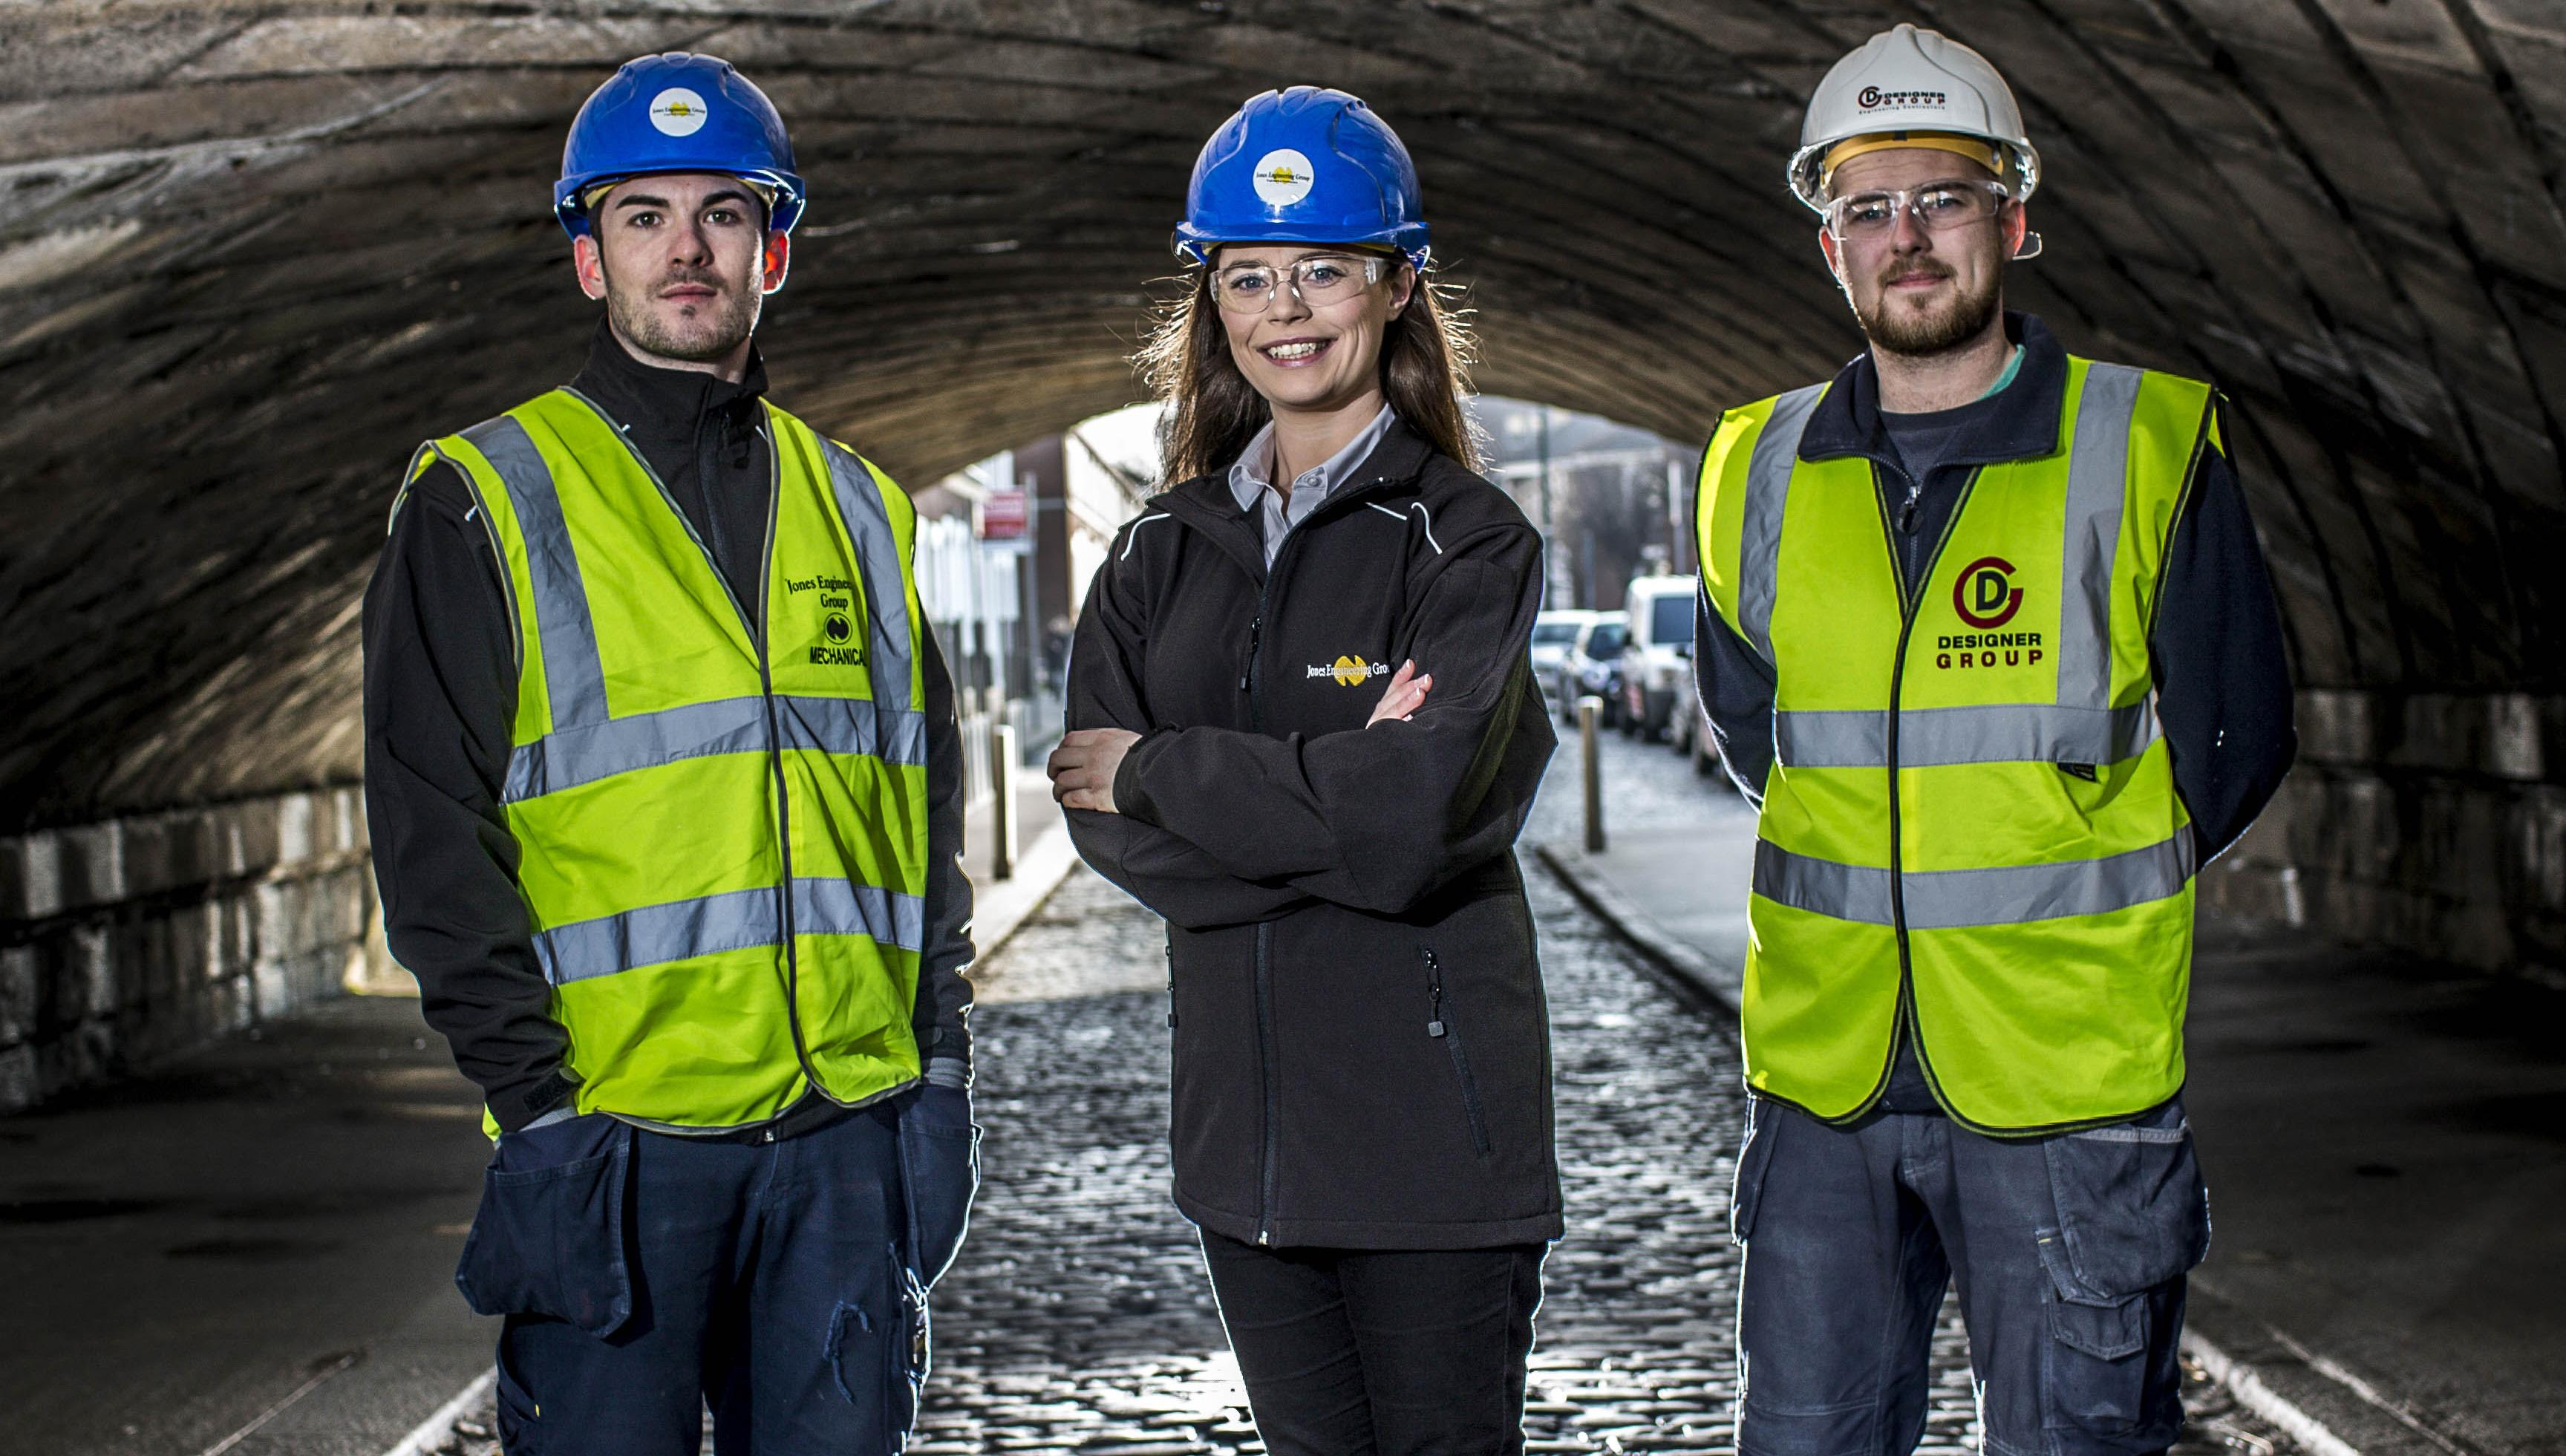helmet: (1787, 23, 2041, 220), (546, 49, 816, 227), (1170, 83, 1428, 261)
